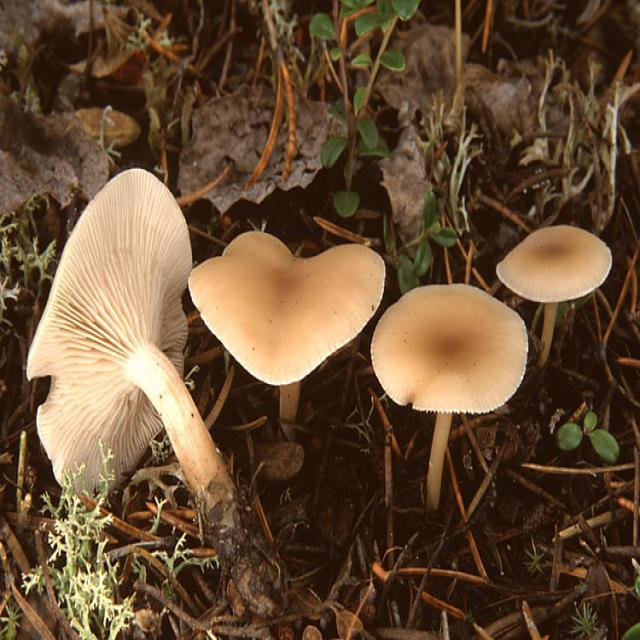Clitocybe maxima: (33, 169, 230, 522), (373, 291, 528, 502), (191, 228, 382, 384), (499, 224, 613, 369)
